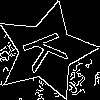K: (21, 26, 78, 74)
